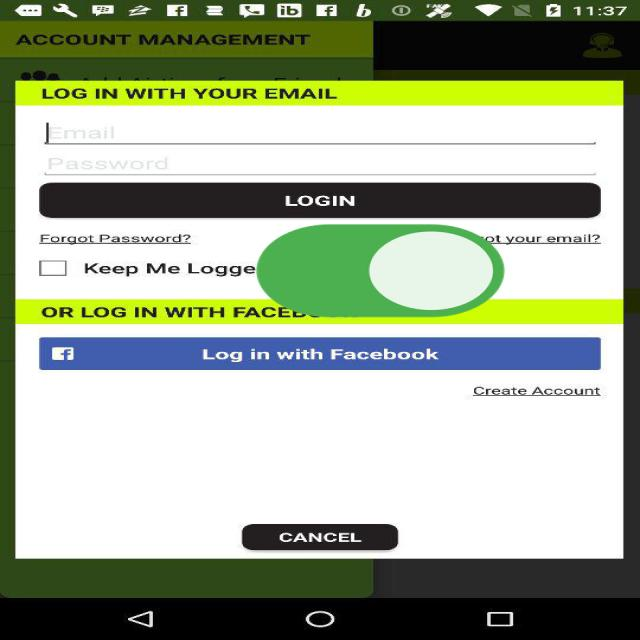social proof: (245, 189, 516, 360)
